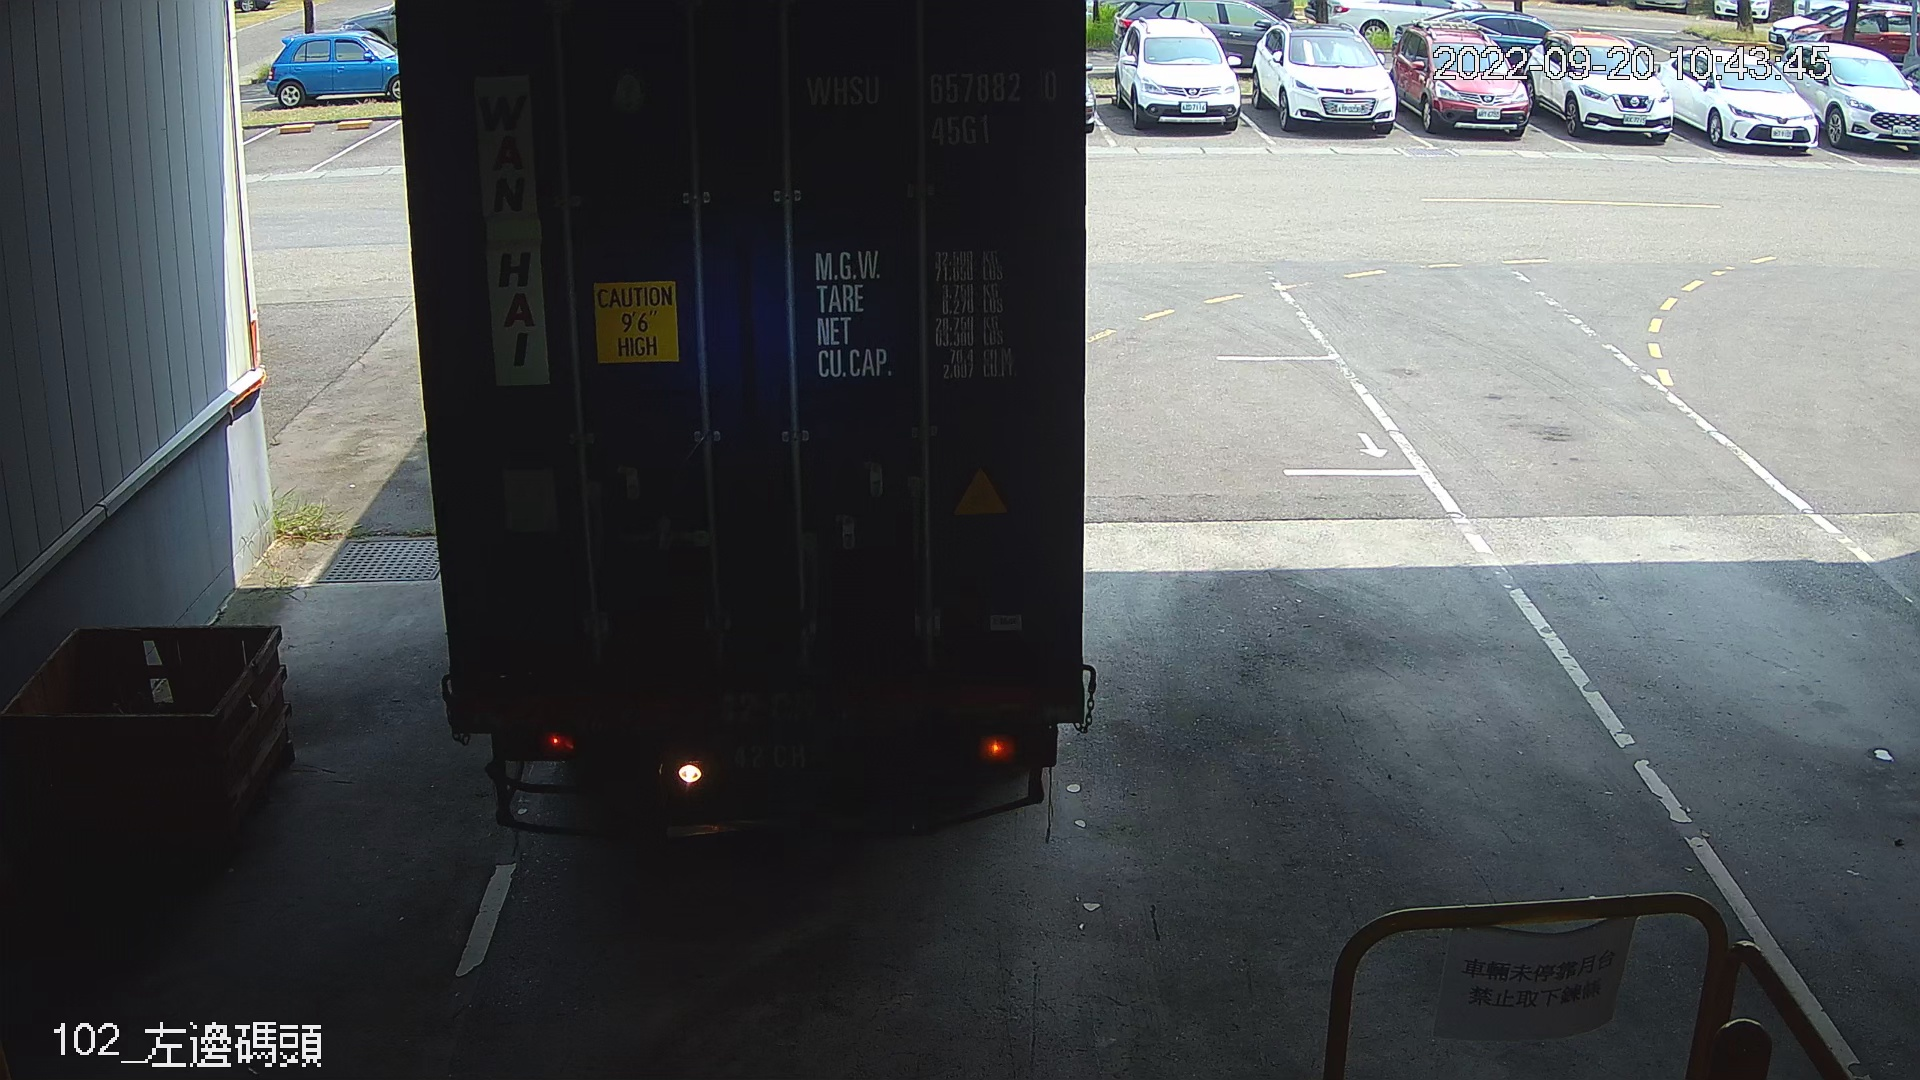container: (795, 61, 1069, 157)
